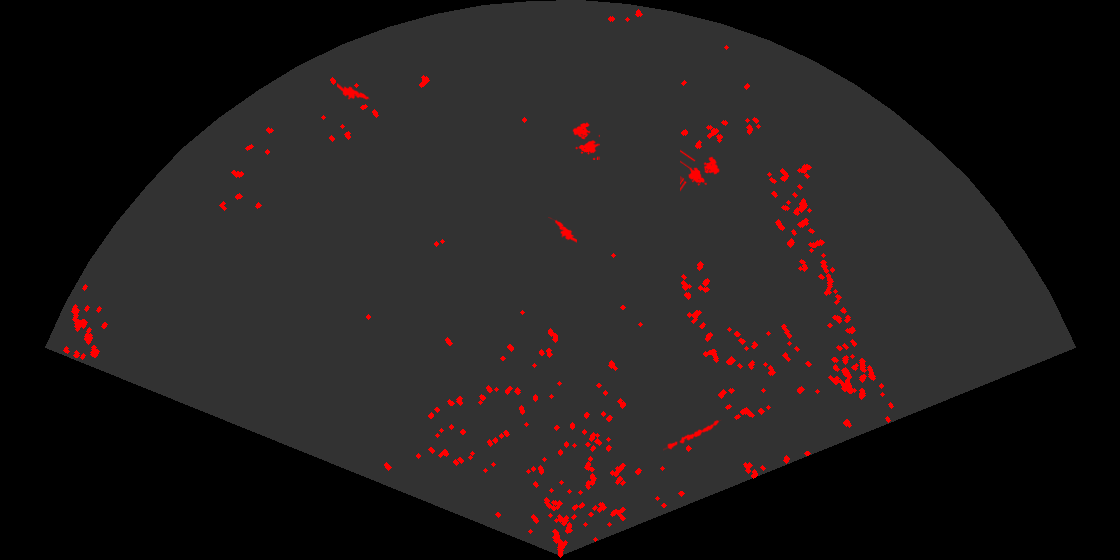cage: (680, 148, 721, 193), (571, 121, 600, 160)
chain: (663, 418, 723, 452)
frogman: (548, 217, 577, 243), (337, 81, 370, 101)
